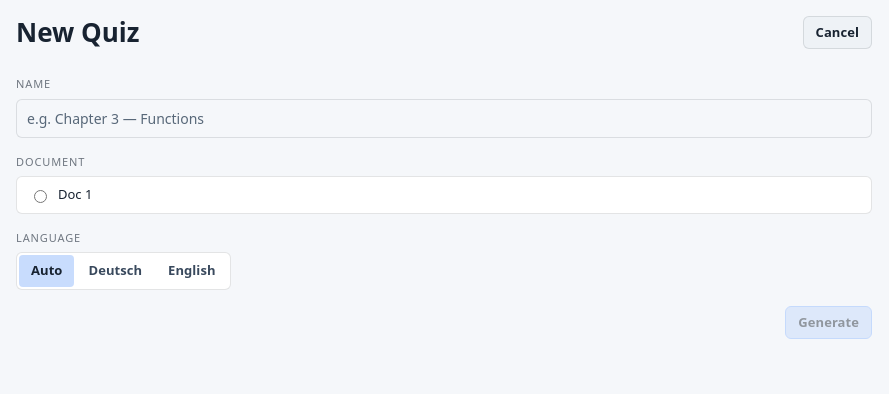
Test: CreateQuizDialog › disables Generate when the name is cleared
Selecting a doc auto-fills the name, so clear it to test the requirement.
Click the radio button labelled "Doc 1" at (40, 196), box [34,190,47,203]
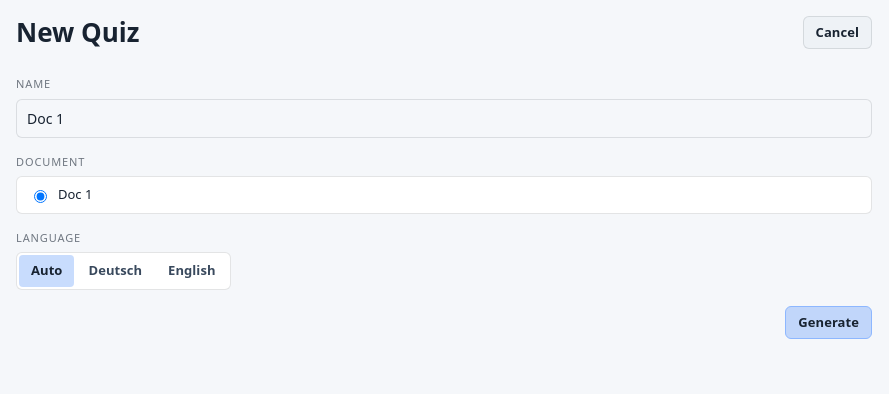
Clear the field at (444, 118), box [16,98,872,138]
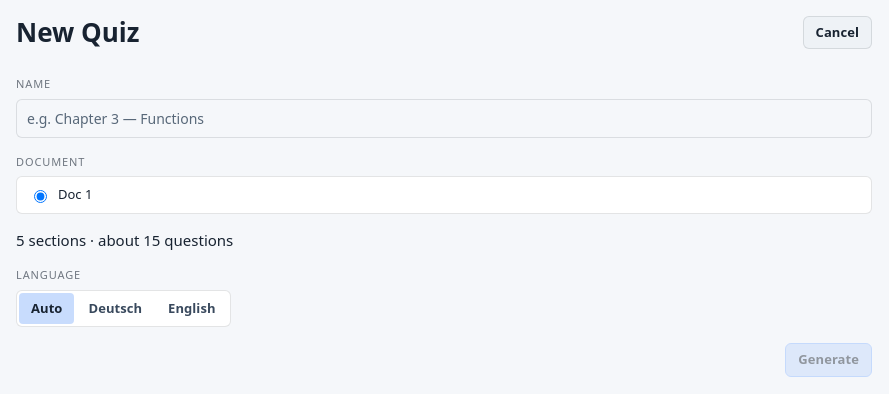
Expected: the button "Generate" is disabled, [785,343,872,376]
